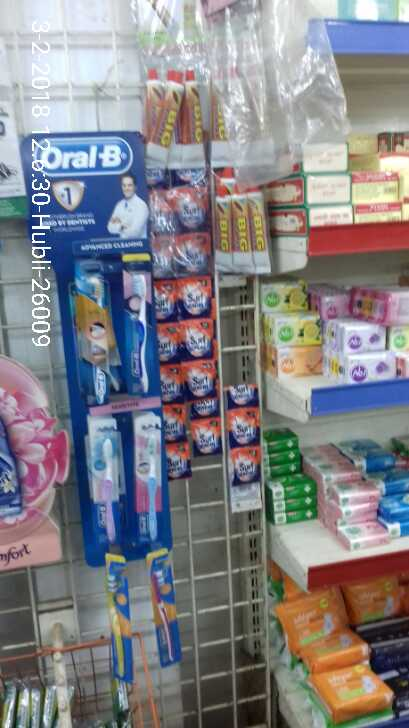oralb: (82, 415, 126, 552), (119, 251, 156, 397), (76, 257, 110, 413), (146, 550, 187, 670), (134, 416, 171, 548), (101, 552, 138, 680), (132, 416, 166, 550)
